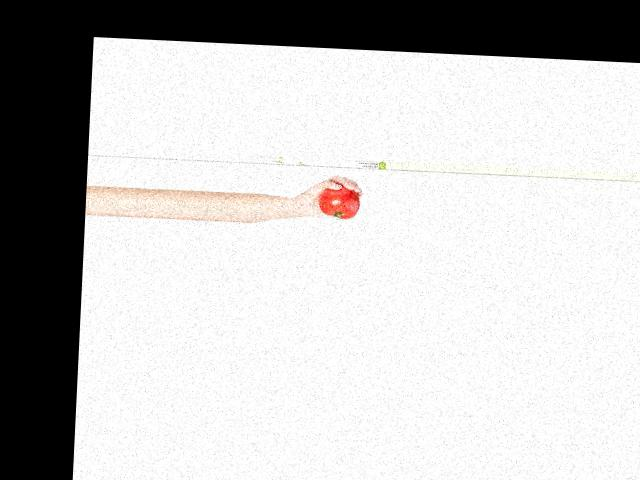tomato: (317, 184, 360, 220)
